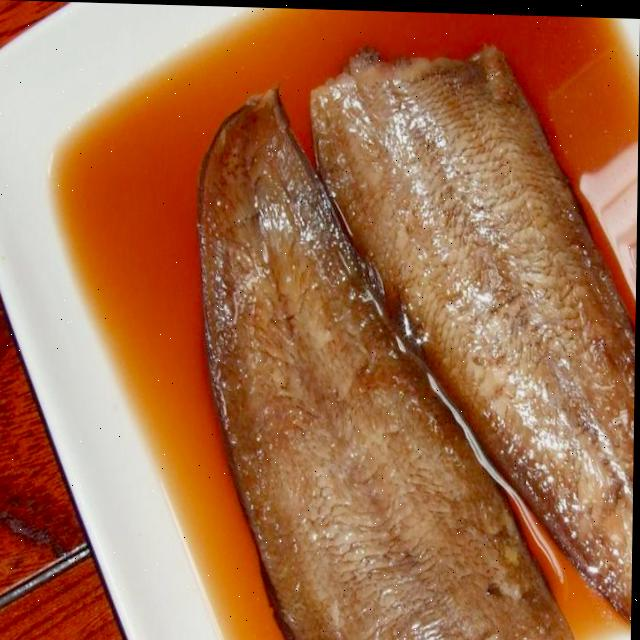熟制海鲜: (164, 4, 640, 640)
